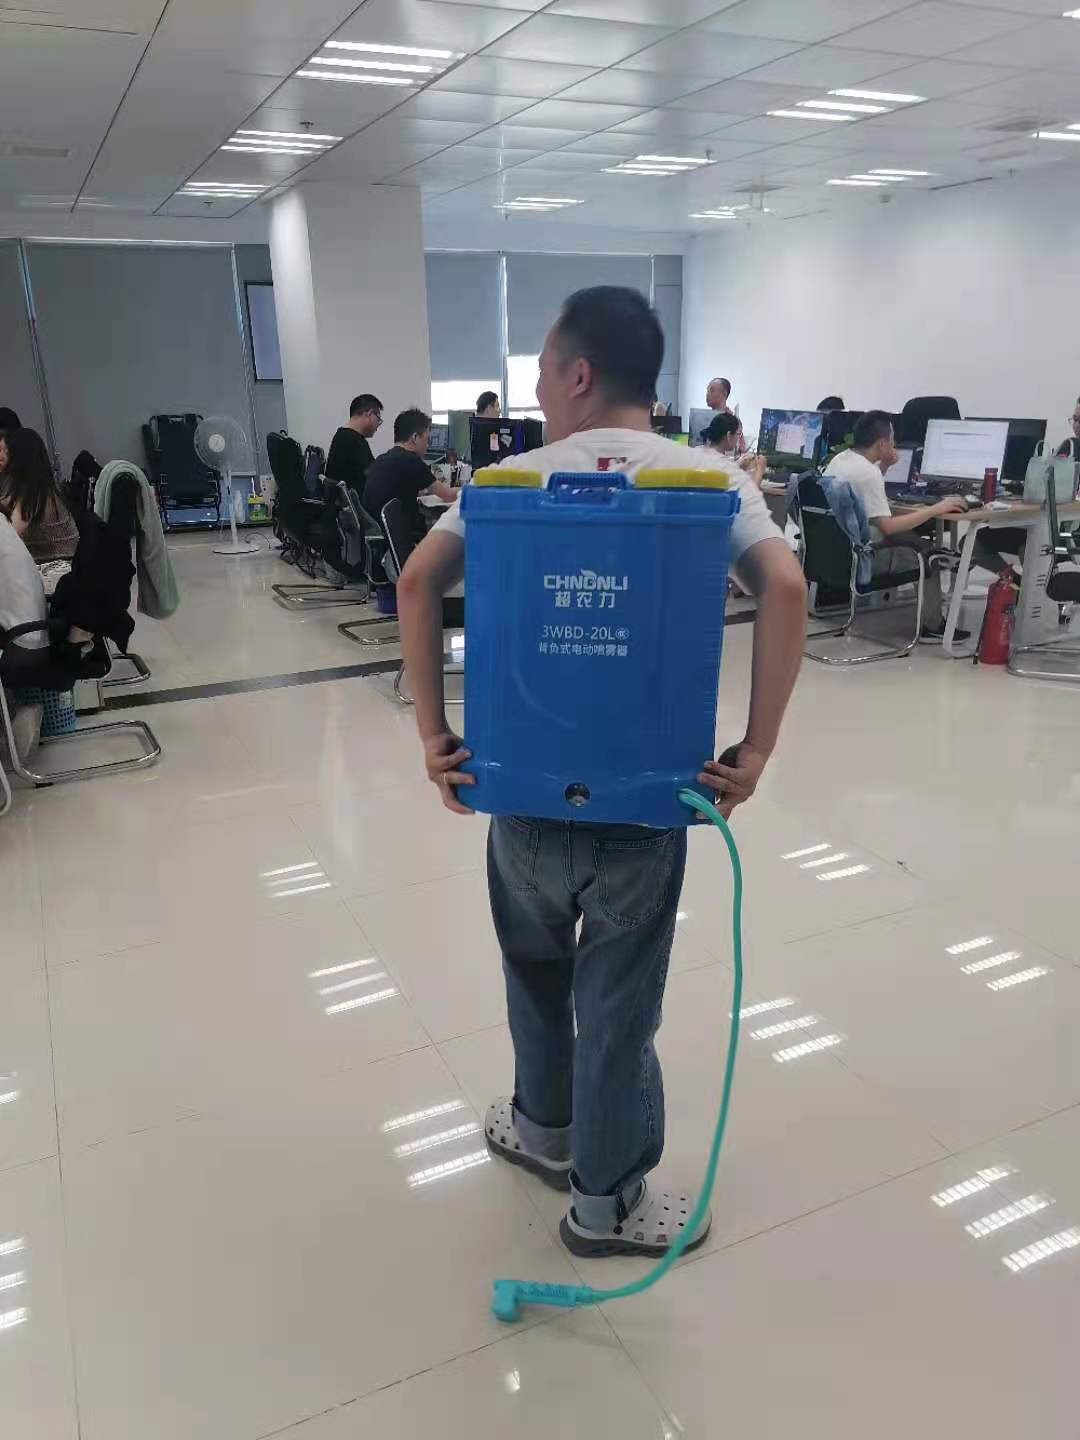berrl: (448, 459, 743, 828)
